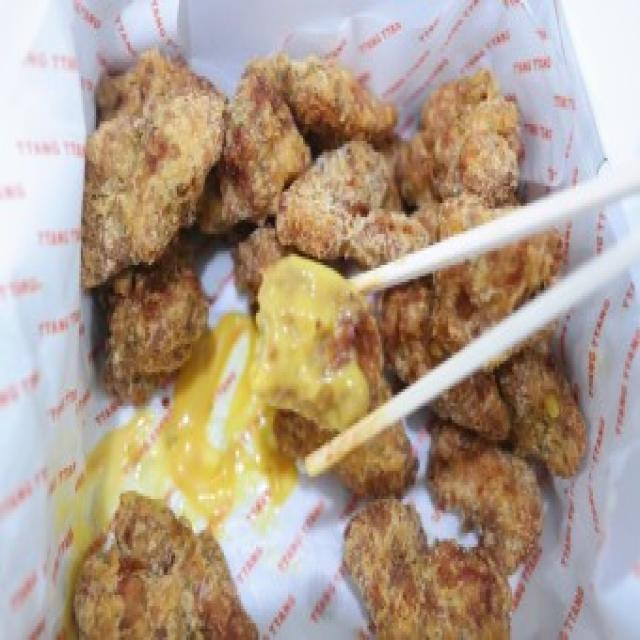Frango: (97, 44, 592, 640)
